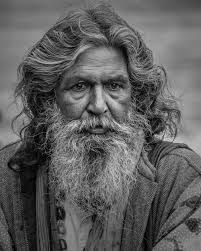no-mask: (31, 15, 155, 170)
